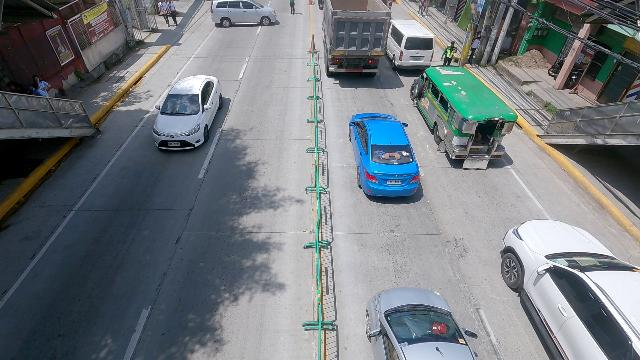car: (499, 222, 640, 360), (357, 286, 483, 360), (347, 110, 426, 199), (150, 73, 221, 155), (209, 0, 278, 28)
jeepney: (410, 66, 518, 168)
truck: (323, 0, 390, 75)
van: (388, 18, 433, 71)
